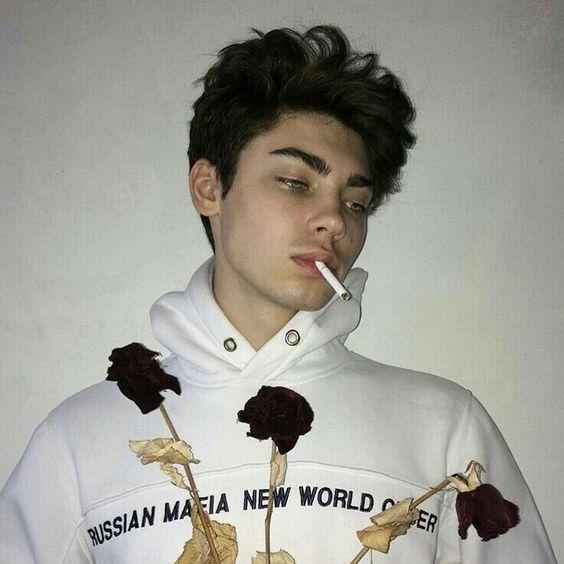cigarette: (315, 260, 352, 301)
